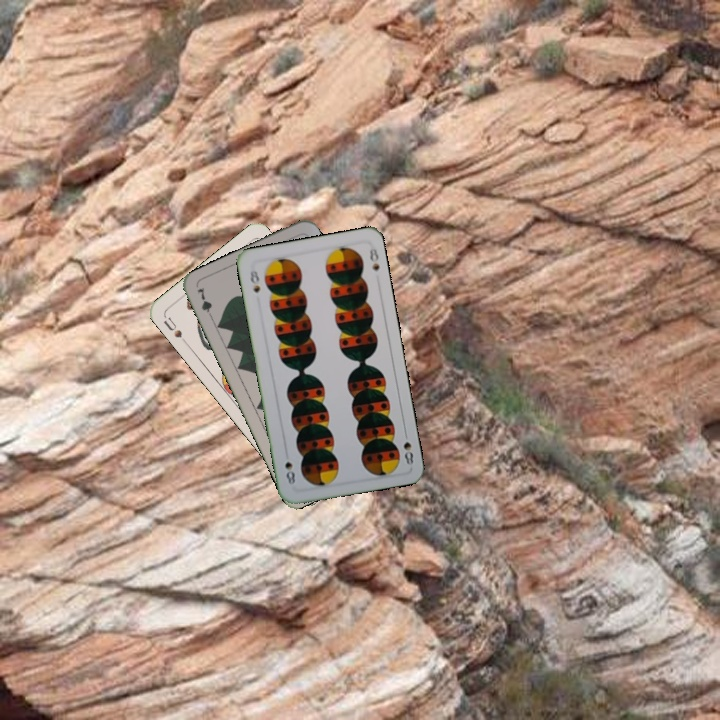G7: (193, 283, 216, 323)
S8: (399, 427, 416, 468), (246, 266, 263, 296)
SU: (159, 313, 189, 347)
